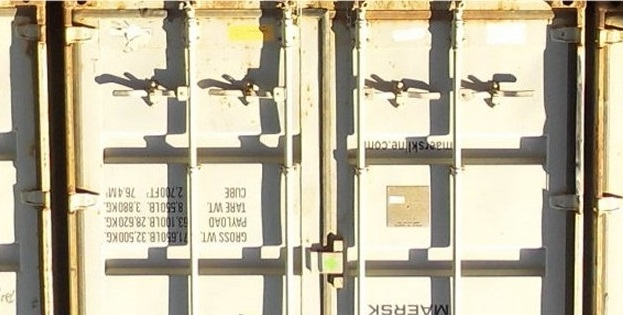container_door: (63, 1, 582, 315)
